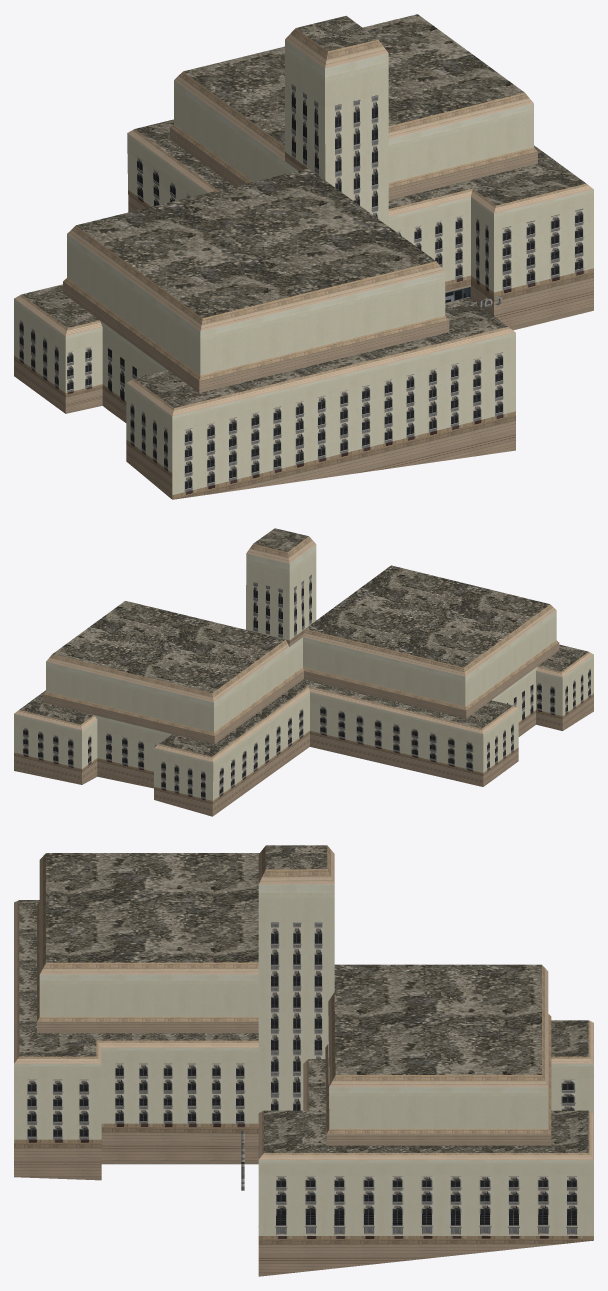
The model's file is laehospital1.obj.
3 renders of one model, top to bottom at view 1: azimuth 30°, elevation 25°; view 2: azimuth 150°, elevation 25°; view 3: azimuth 270°, elevation 25°, orthographic. The views are drawn at different scales.
Parts seen in each view (by area): view 1: laehospital1; view 2: laehospital1; view 3: laehospital1.
Part boxes in pixels (x1,y1,x2,y2): laehospital1: (14, 14, 593, 499); laehospital1: (14, 528, 593, 816); laehospital1: (14, 845, 593, 1276).
Bounding box in the file's own units: 91.97 × 51.34 × 87.53.
